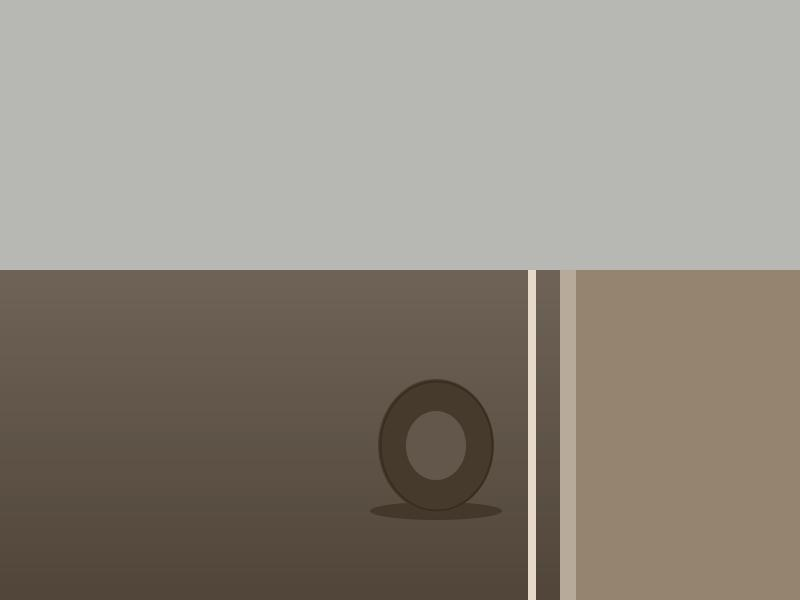ROAD_OBSTACLE: (378, 379, 494, 512)
